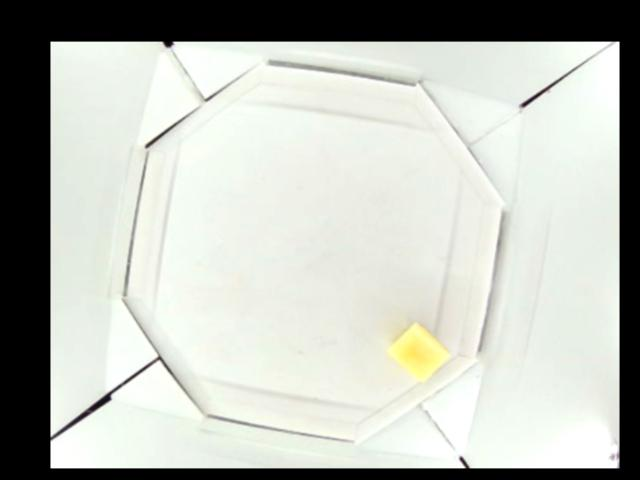Potato: (387, 323, 447, 381)
